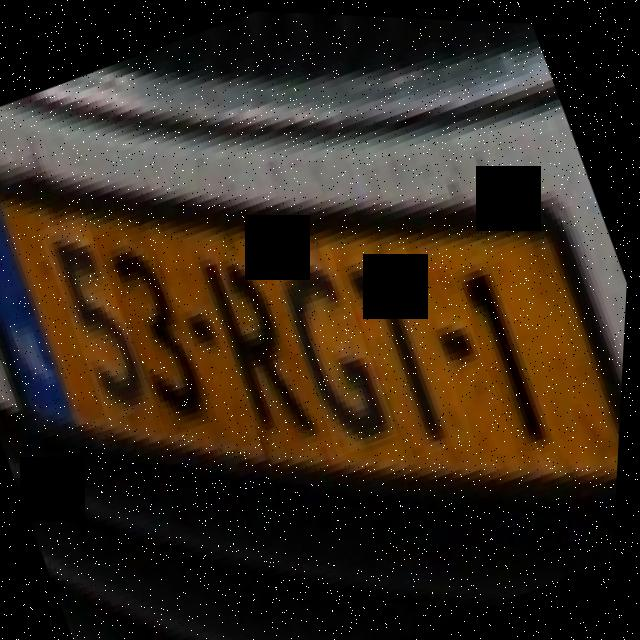1: (448, 254, 566, 451)
3: (89, 214, 230, 436)
5: (33, 211, 166, 423)
G: (265, 238, 411, 455)
R: (185, 228, 333, 453)
T: (337, 240, 486, 458)
